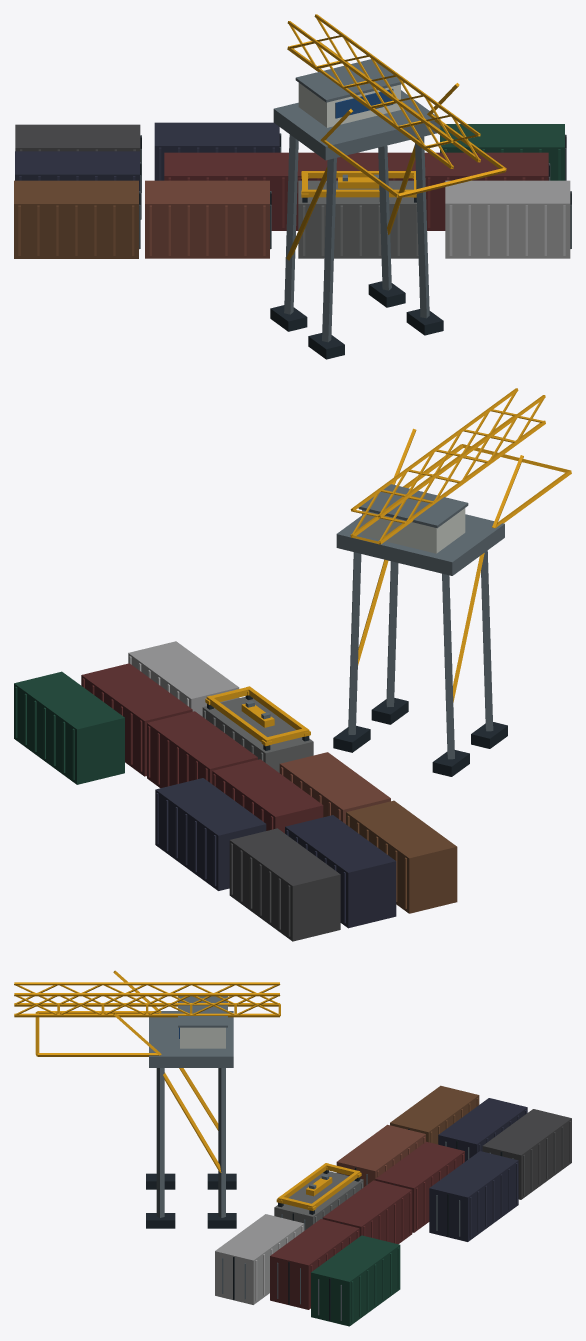
The model's file is gantry-crane-nw-se-08.glb.
3 renders of one model, top to bottom at view 1: azimuth 30°, elevation 25°; view 2: azimuth 150°, elevation 25°; view 3: azimuth 270°, elevation 25°, orthographic. The views are drawn at different scales.
Visible parts, largest first — view 1: gantry-crane-nw-se-08; view 2: gantry-crane-nw-se-08; view 3: gantry-crane-nw-se-08.
Boxes of the visible parts, x1=… form: gantry-crane-nw-se-08: x1=14, y1=14, x2=571, y2=359; gantry-crane-nw-se-08: x1=14, y1=388, x2=571, y2=941; gantry-crane-nw-se-08: x1=14, y1=970, x2=571, y2=1326.
Size of the model in its own units: 60.37 by 31.18 by 72.53.
